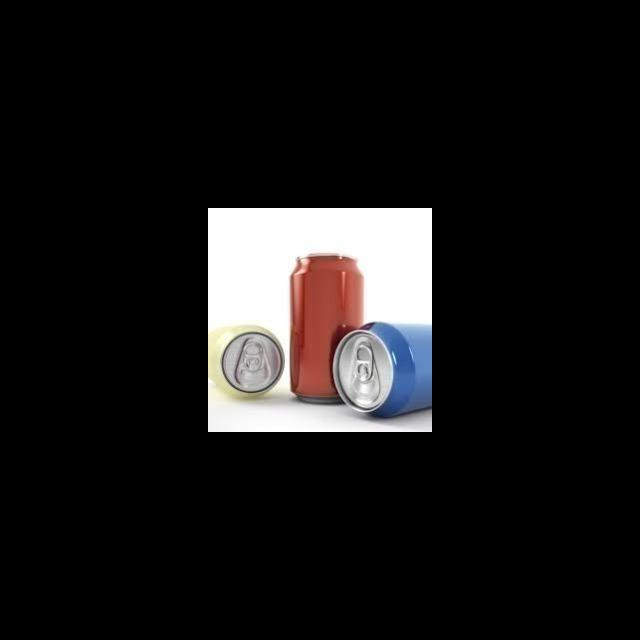metal: (286, 243, 366, 407), (332, 319, 432, 420), (208, 315, 285, 410)
